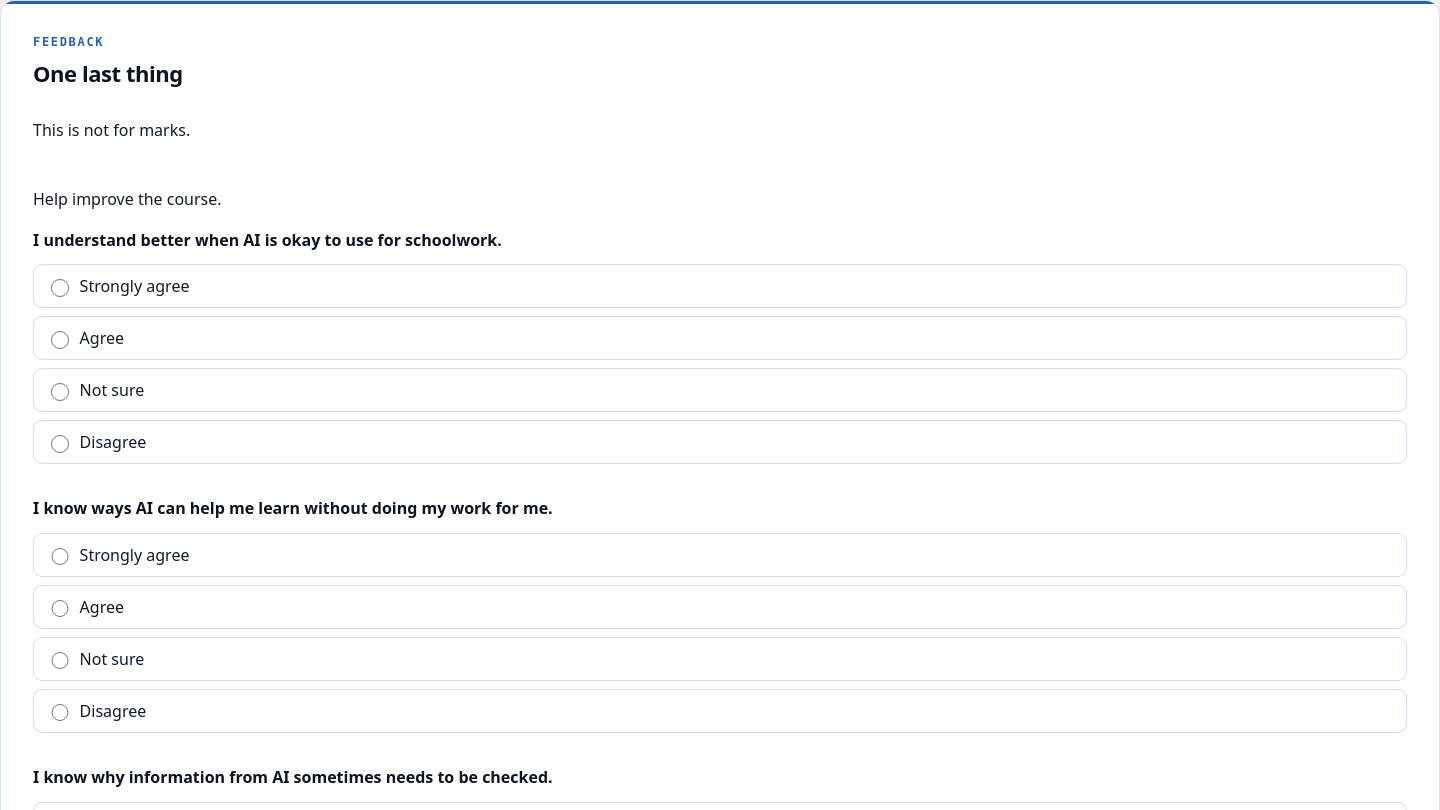
Test: exit survey submission › confirms a successful send without changing anything about completion
Click the 1st radio button labelled "Strongly agree" at (60, 288), box [51,279,69,297]
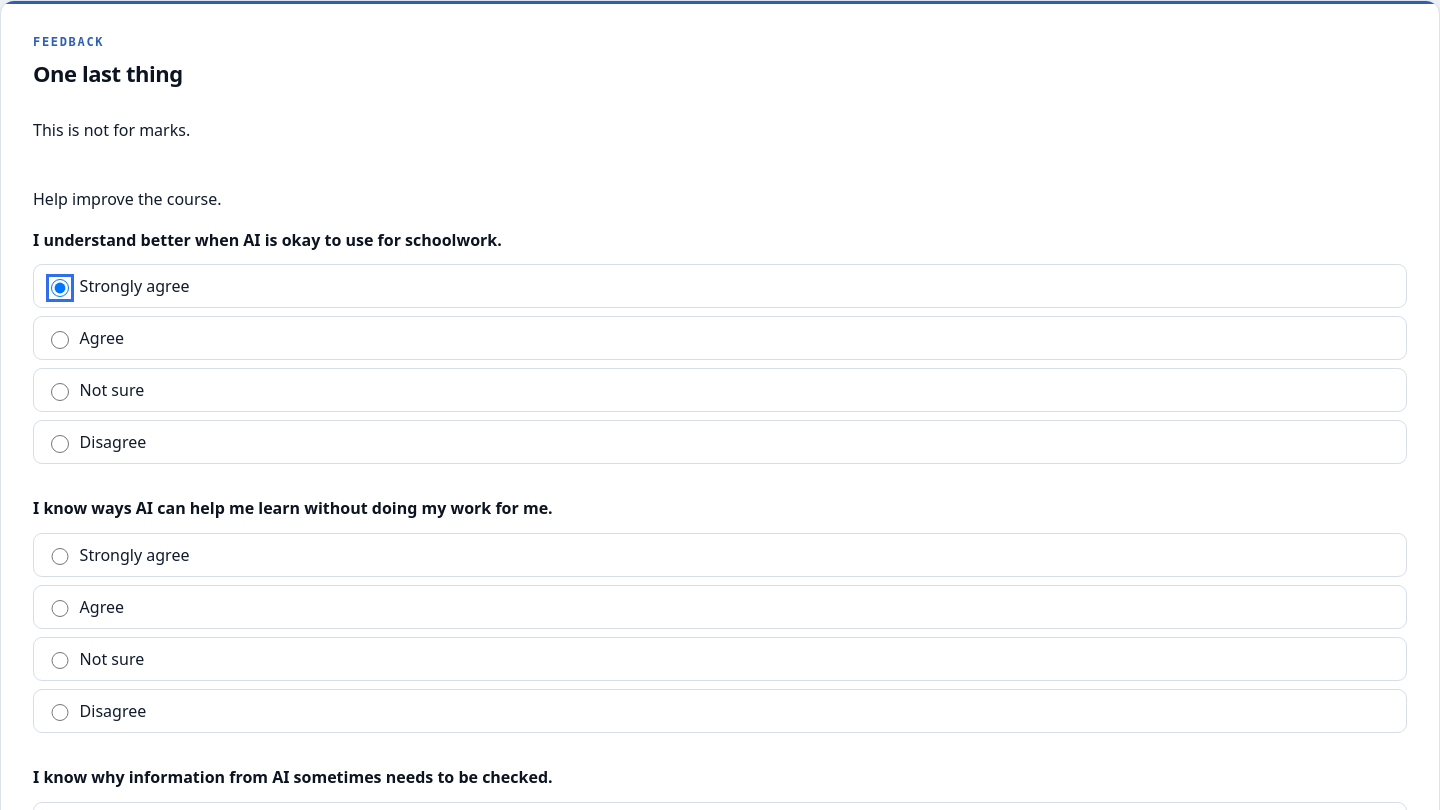
Click the 2nd radio button labelled "Strongly agree" at (60, 557), box [51,548,69,566]
(page scrolled)
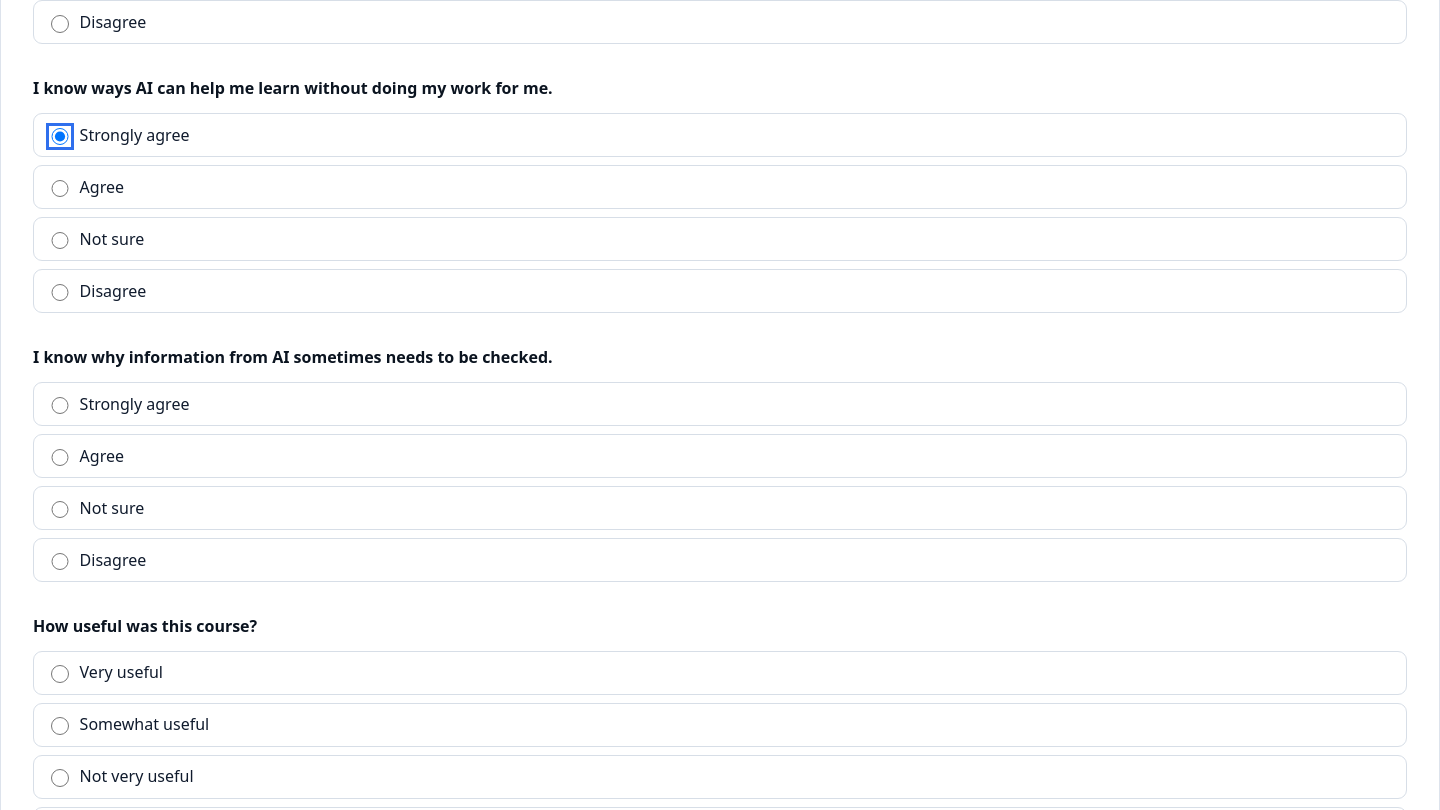
Click the 2nd radio button labelled "Strongly agree" at (60, 406), box [51,397,69,414]
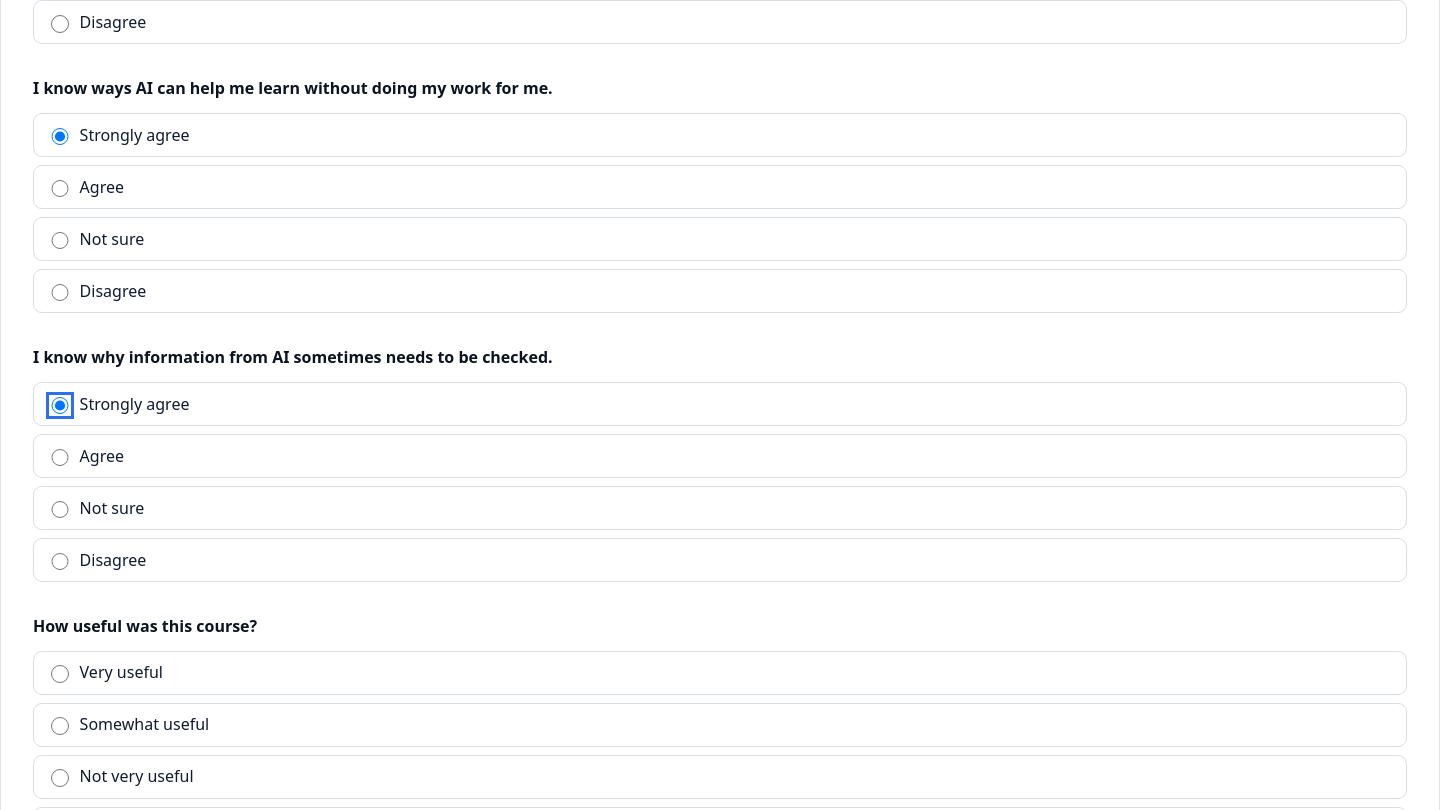
Click the radio button labelled "Very useful" at (60, 674), box [51,666,69,683]
(page scrolled)
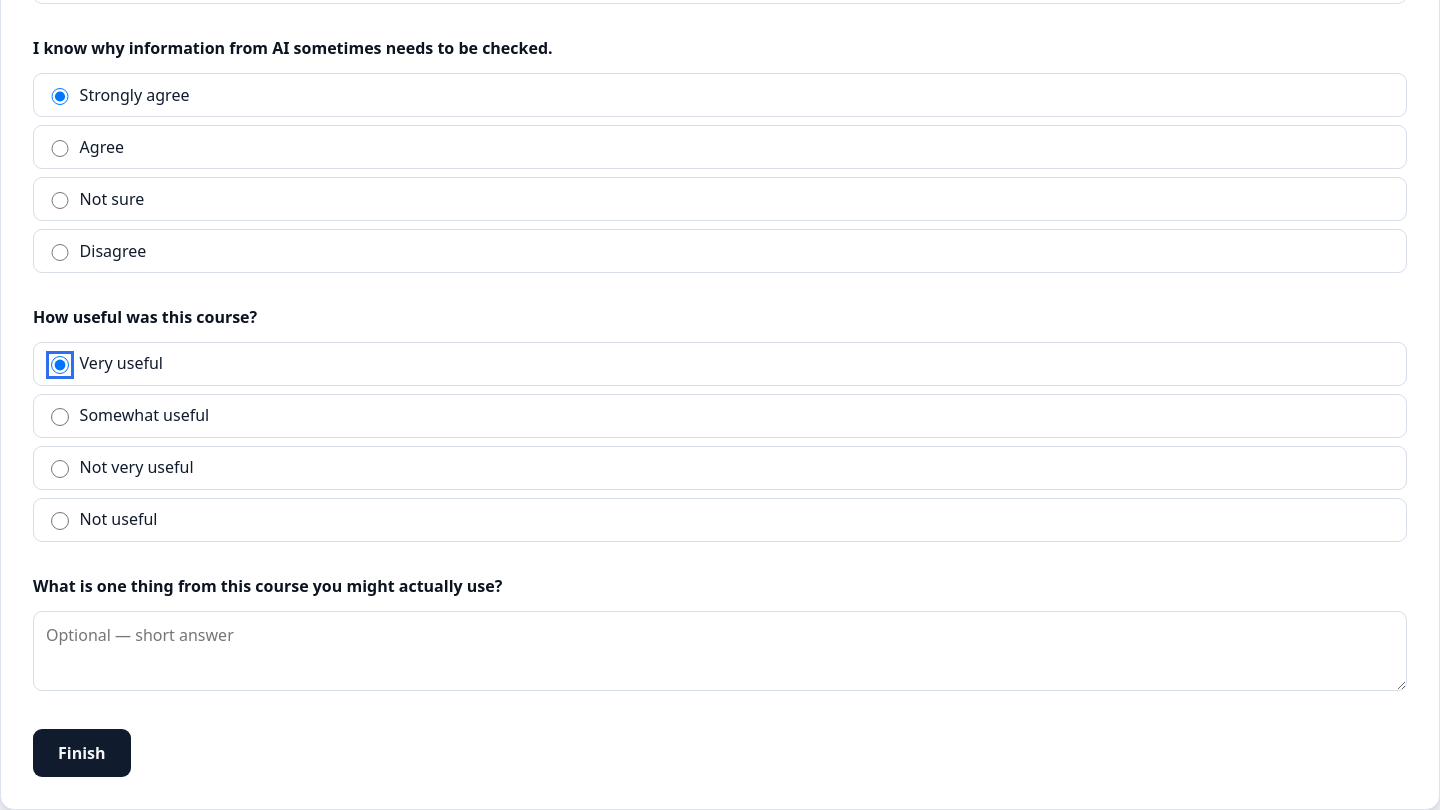
Click the button "Finish" at (82, 753), box [33,729,130,777]
(page scrolled)
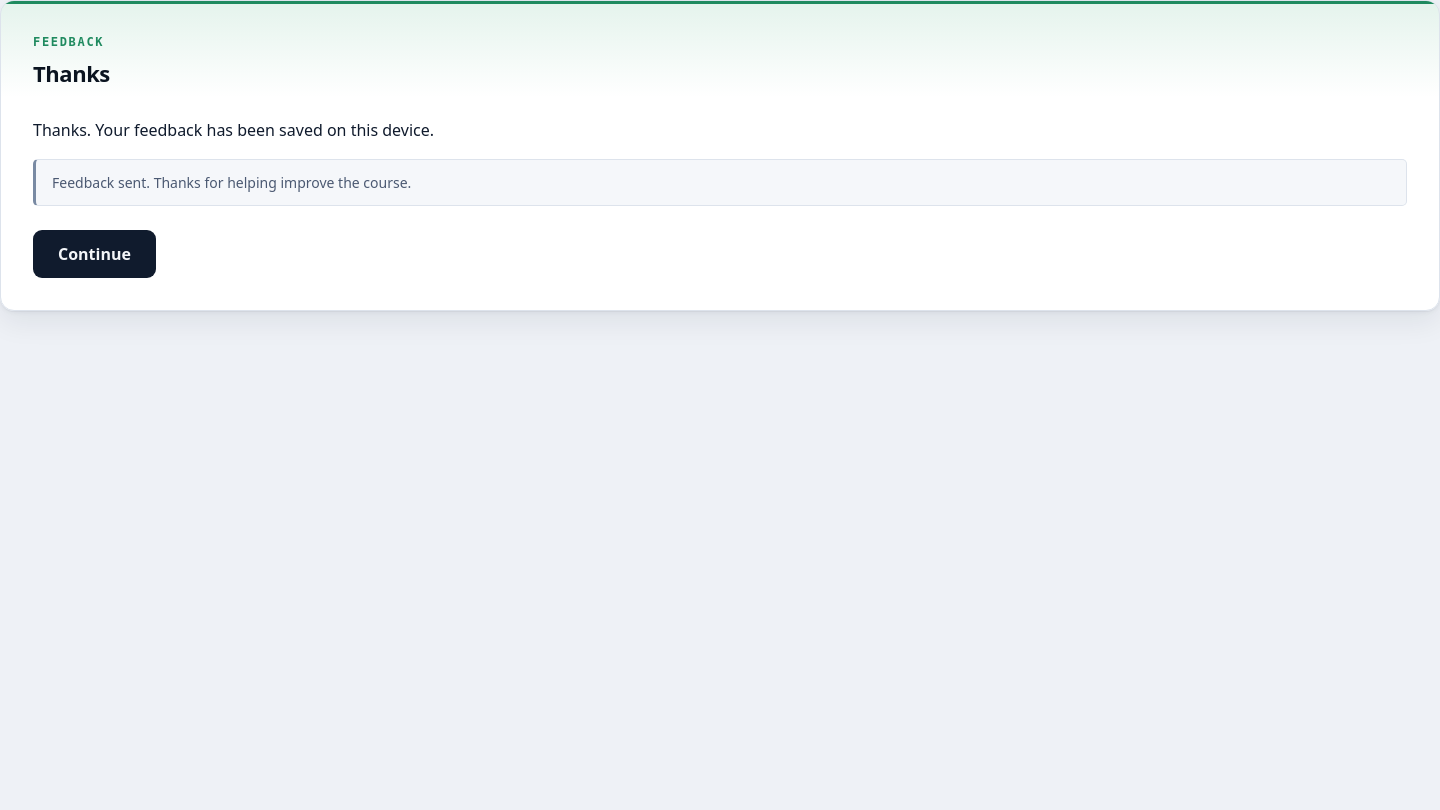
Check: the text "Feedback sent. Thanks for helping improve the course." is shown, box [33,159,1407,206]
